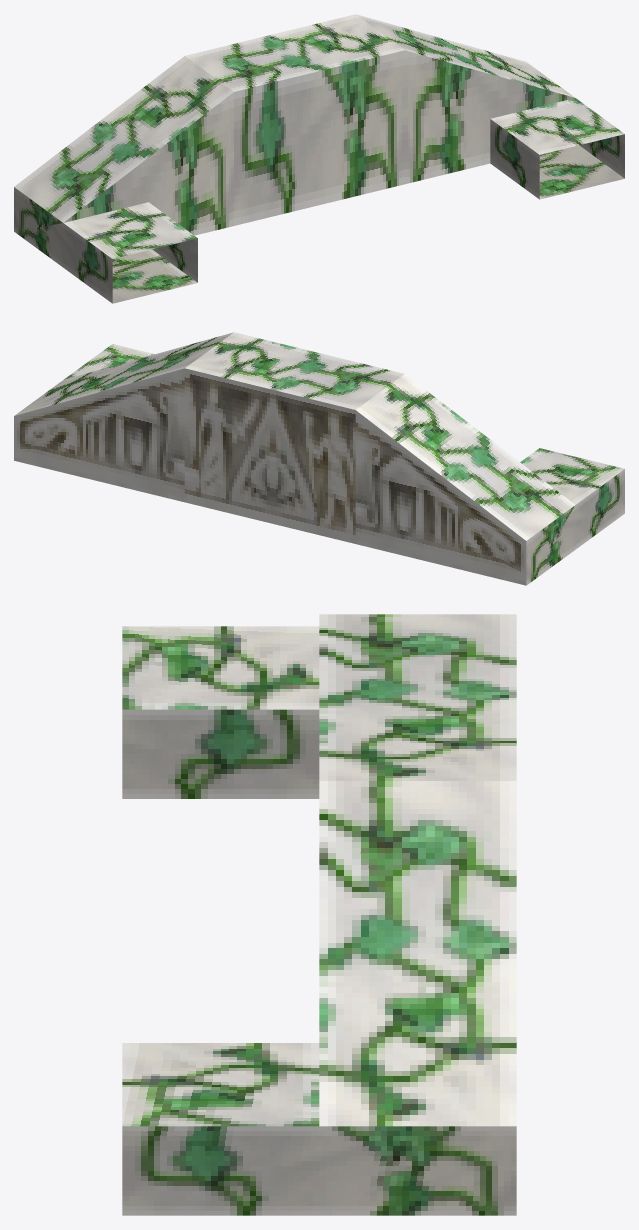
The picture shows the model from 3 angles, top to bottom: view 1: azimuth 30°, elevation 25°; view 2: azimuth 150°, elevation 25°; view 3: azimuth 270°, elevation 25°; orthographic projection. The views are drawn at different scales.
Visible parts, largest first — view 1: prim077-Line02; view 2: prim077-Line02; view 3: prim077-Line02.
Boxes of the visible parts, x1,y1,x2,y2 form: prim077-Line02: (14, 14, 624, 303); prim077-Line02: (14, 332, 624, 585); prim077-Line02: (122, 614, 516, 1215).
Bounding box in the file's own units: 768 × 192 × 256.
2 materials, 2 textured.
